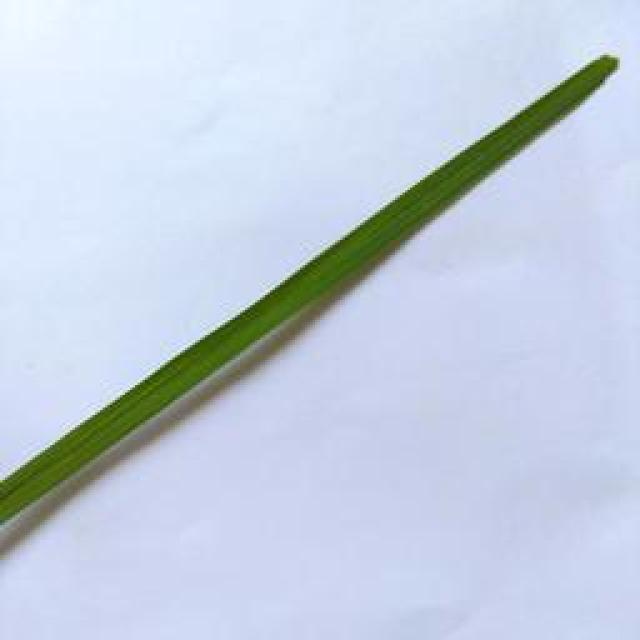Healthy-Plant: (0, 55, 615, 517)
